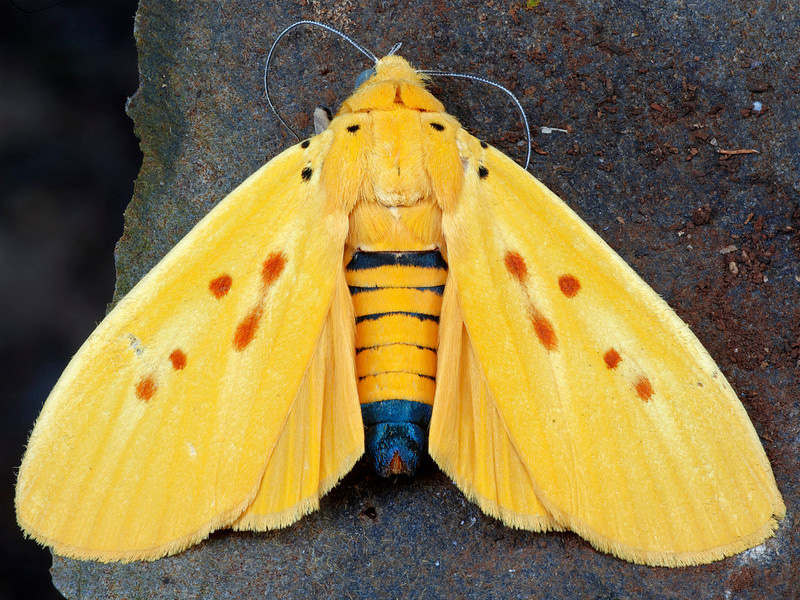Agape chloropyga: (9, 12, 789, 571)
moth: (11, 14, 791, 573)
